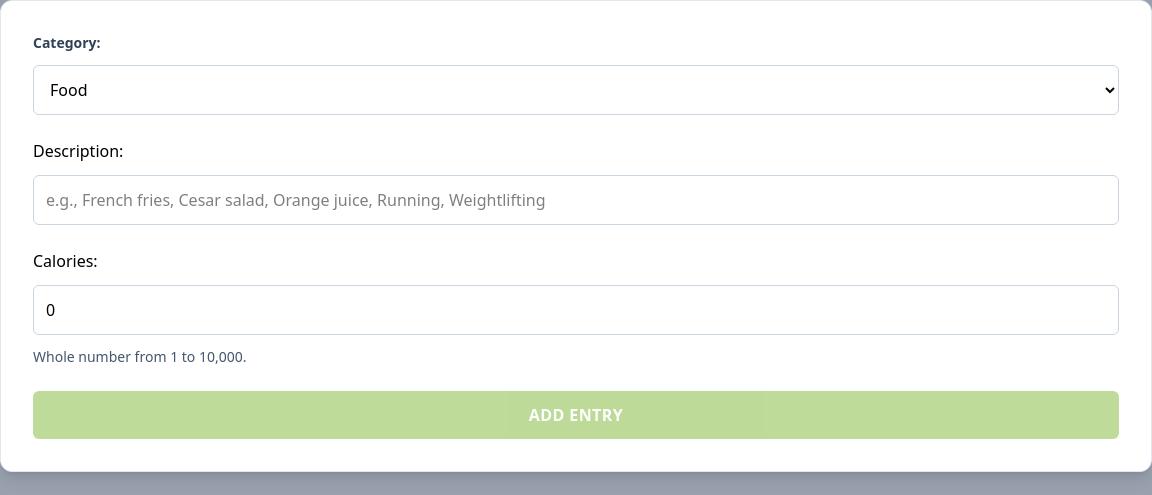
Test: Form › enables the button for a description and whole calories
Type "Salad" into the field labelled "Description:".
click(576, 200); type("Salad")  # box [33,175,1119,225]
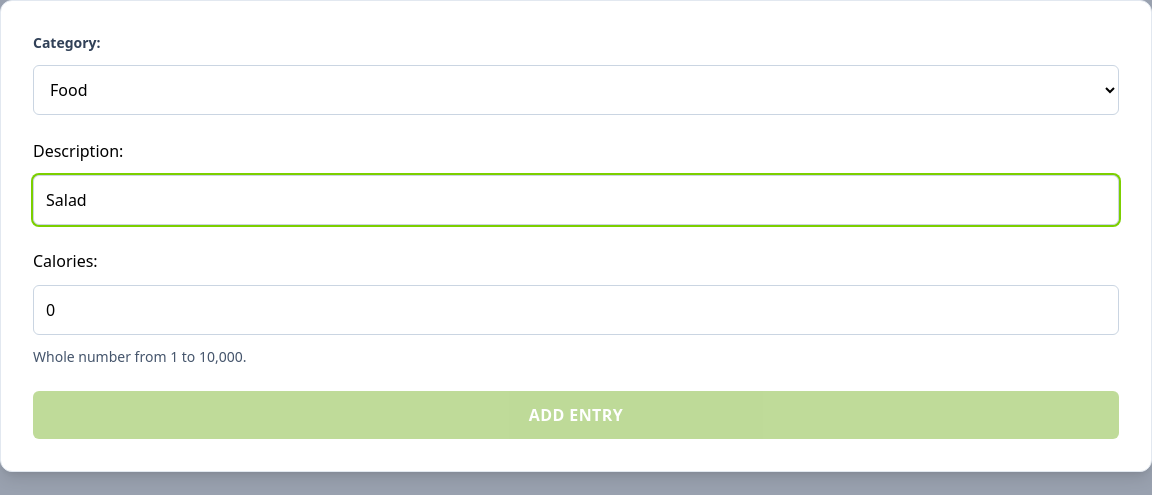
Replace the text in the number field labelled "Calories:" with "150" at (576, 310), box [33,285,1119,335]
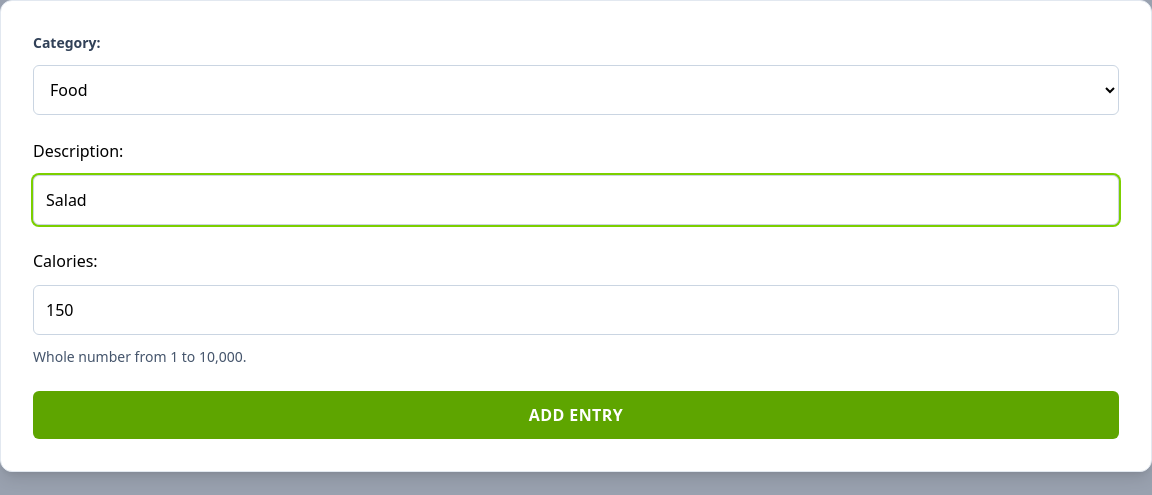
Expected: the button "Add Entry" is enabled, [33,391,1119,439]
